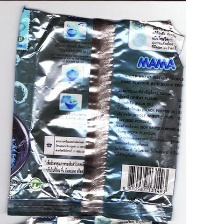snack: (0, 0, 190, 224)
